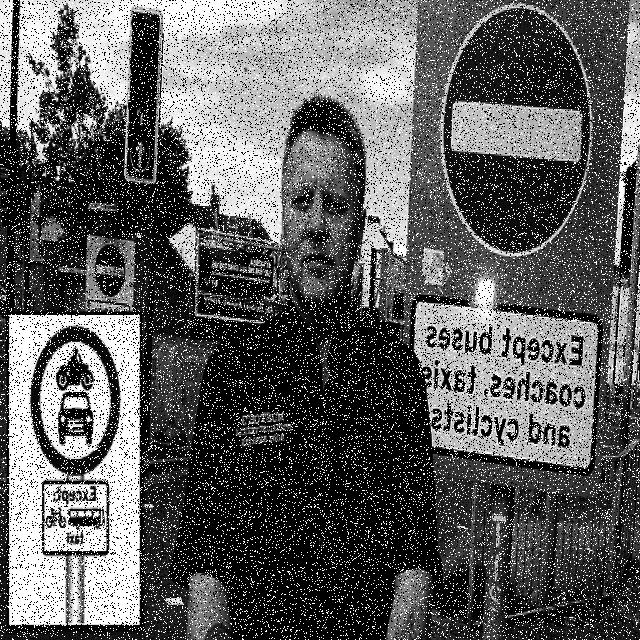no entry: (438, 3, 594, 256), (96, 243, 126, 296)
